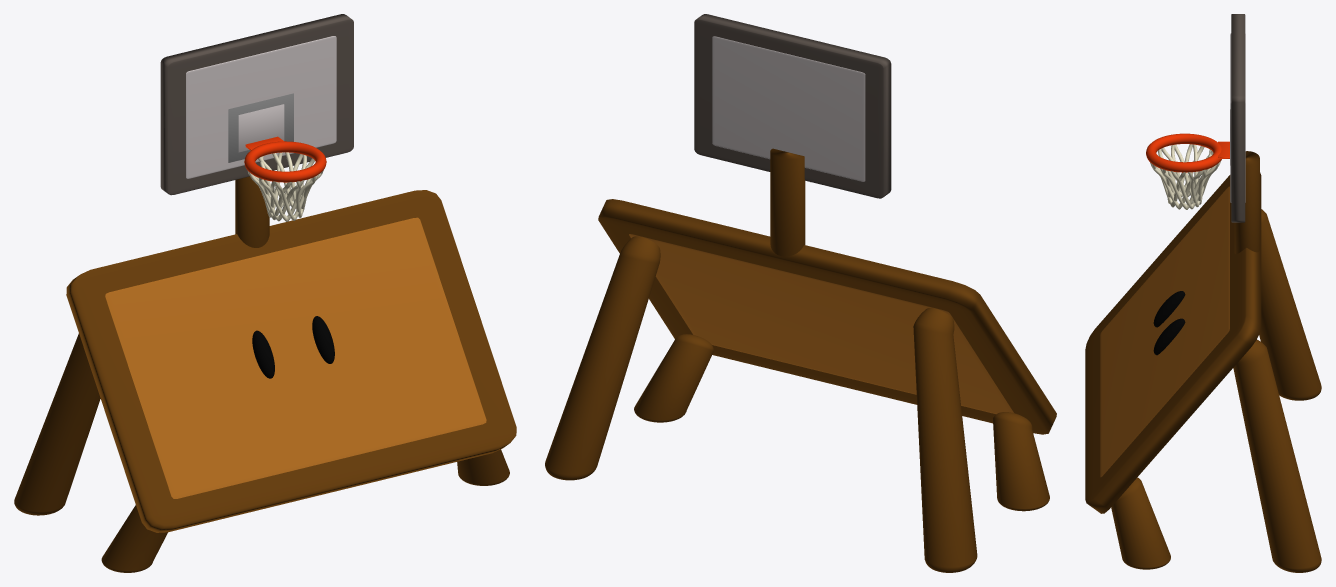
The model's file is coatoron.glb.
3 views of the same model, side by side, from view 1: azimuth 30°, elevation 25°; view 2: azimuth 150°, elevation 25°; view 3: azimuth 270°, elevation 25° (orthographic). The views are drawn at different scales.
Visible parts, largest first — view 1: Cube.002, Cube.001, Cube.004, Cube.003, Cylinder.001, Cylinder.003, Cylinder, Torus, Cube.007, Cube.006, Cylinder.004, Sphere (+1 smaller); view 2: Cube.002, Cube.001, Cube.004, Cylinder.001, Cylinder.002, Cube.003, Cylinder.003, Cylinder.004, Cylinder; view 3: Cube.002, Cube.001, Cylinder.002, Cylinder.001, Cylinder.004, Cube.003, Cylinder, Torus, Cube.004, Sphere, Sphere.001, NurbsPath.011 (+1 smaller).
Part boxes in pixels (x1,y1,x2,y2): Cube.002: [105, 217, 486, 498]; Cube.001: [66, 190, 516, 532]; Cube.004: [186, 36, 336, 178]; Cube.003: [160, 14, 353, 195]; Cylinder.001: [14, 333, 100, 515]; Cylinder.003: [101, 505, 167, 572]; Cylinder: [235, 176, 269, 247]; Torus: [244, 141, 326, 182]; Cube.007: [238, 104, 284, 152]; Cube.006: [228, 93, 293, 162]; Cylinder.004: [457, 449, 509, 485]; Sphere: [252, 330, 274, 378]; Cube.002: [629, 234, 1013, 414]; Cube.001: [598, 199, 1056, 434]; Cube.004: [712, 36, 865, 181]; Cylinder.001: [913, 308, 977, 572]; Cylinder.002: [545, 236, 660, 480]; Cube.003: [694, 14, 891, 198]; Cylinder.003: [993, 412, 1049, 511]; Cylinder.004: [634, 334, 713, 422]; Cylinder: [770, 148, 805, 256]; Cube.002: [1100, 186, 1229, 477]; Cube.001: [1085, 172, 1261, 513]; Cylinder.002: [1233, 339, 1321, 572]; Cylinder.001: [1259, 209, 1321, 400]; Cylinder.004: [1111, 477, 1170, 569]; Cube.003: [1231, 14, 1245, 222]; Cylinder: [1234, 151, 1259, 254]; Torus: [1146, 133, 1221, 172]; Cube.004: [1230, 33, 1245, 202]; Sphere: [1153, 291, 1185, 327]; Sphere.001: [1153, 318, 1185, 355]; NurbsPath.011: [1160, 164, 1217, 209].
Bounding box in the file's own units: 2.17 × 2.22 × 1.12.
